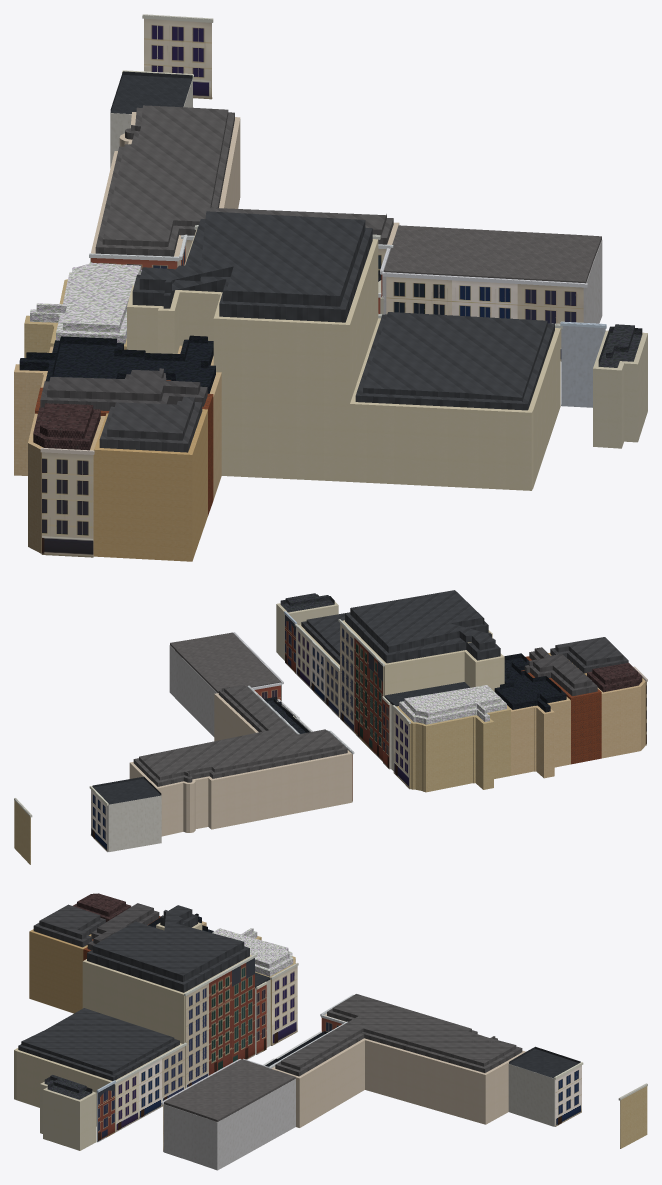
The picture shows the model from 3 angles, top to bottom: view 1: azimuth 30°, elevation 25°; view 2: azimuth 150°, elevation 25°; view 3: azimuth 270°, elevation 25°; orthographic projection. The views are drawn at different scales.
Visible parts, largest first — view 1: bldg_499602546, bldg_499602548, bldg_499602546_roof_b, bldg_499602554_roof_b, bldg_499602548_roof_b, bldg_499602537, bldg_499602553_roof, bldg_499602553_facade0, bldg_499602538_facade0, bldg_499602540_roof_a, bldg_499602550, bldg_499602546_roof_a (+23 smaller); view 2: bldg_499602554, bldg_499602543, bldg_499602554_roof_b, bldg_499602546_roof_b, bldg_499602546_facade0, bldg_499602540, bldg_499602546, bldg_499602553_roof, bldg_499602538, bldg_499602555, bldg_499602548_facade0, bldg_499602539 (+23 smaller); view 3: bldg_499602554, bldg_499602554_roof_b, bldg_499602546_facade0, bldg_499602553, bldg_499602546_roof_b, bldg_499602548_roof_b, bldg_499602546, bldg_499602553_roof, bldg_499602537, bldg_499602548_facade0, bldg_499602550, bldg_499602548 (+16 smaller).
Boxes of the visible parts, left/top/right/bottom form: bldg_499602546: left=127, top=229, right=378, bottom=481; bldg_499602548: left=350, top=318, right=560, bottom=490; bldg_499602546_roof_b: left=139, top=211, right=365, bottom=306; bldg_499602554_roof_b: left=102, top=105, right=386, bottom=246; bldg_499602548_roof_b: left=363, top=312, right=547, bottom=402; bldg_499602537: left=94, top=409, right=207, bottom=561; bldg_499602553_roof: left=384, top=225, right=601, bottom=283; bldg_499602553_facade0: left=382, top=272, right=587, bottom=361; bldg_499602538_facade0: left=40, top=447, right=94, bottom=557; bldg_499602540_roof_a: left=19, top=339, right=215, bottom=393; bldg_499602550: left=593, top=330, right=647, bottom=448; bldg_499602546_roof_a: left=132, top=219, right=372, bottom=322; bldg_499602554: left=129, top=693, right=351, bottom=836; bldg_499602543: left=396, top=706, right=510, bottom=792; bldg_499602554_roof_b: left=139, top=684, right=342, bottom=780; bldg_499602546_roof_b: left=350, top=590, right=495, bottom=652; bldg_499602546_facade0: left=338, top=619, right=384, bottom=761; bldg_499602540: left=507, top=697, right=570, bottom=778; bldg_499602546: left=342, top=620, right=504, bottom=696; bldg_499602553_roof: left=170, top=632, right=280, bottom=692; bldg_499602538: left=597, top=678, right=645, bottom=758; bldg_499602555: left=108, top=795, right=161, bottom=851; bldg_499602548_facade0: left=294, top=624, right=339, bottom=717; bldg_499602539: left=521, top=656, right=601, bottom=764; bldg_499602554: left=271, top=1014, right=525, bottom=1127; bldg_499602554_roof_b: left=281, top=994, right=516, bottom=1070; bldg_499602546_facade0: left=184, top=954, right=256, bottom=1088; bldg_499602553: left=163, top=1079, right=295, bottom=1170; bldg_499602546_roof_b: left=92, top=905, right=244, bottom=981; bldg_499602548_roof_b: left=21, top=1008, right=174, bottom=1074; bldg_499602546: left=82, top=922, right=252, bottom=1088; bldg_499602553_roof: left=164, top=1059, right=295, bottom=1121; bldg_499602537: left=29, top=929, right=91, bottom=1013; bldg_499602548_facade0: left=114, top=1042, right=186, bottom=1132; bldg_499602550: left=40, top=1082, right=96, bottom=1150; bldg_499602548: left=14, top=1043, right=182, bottom=1126.
Size of the model in its own units: 83.96 by 21.71 by 110.
42 materials, 24 textured.
